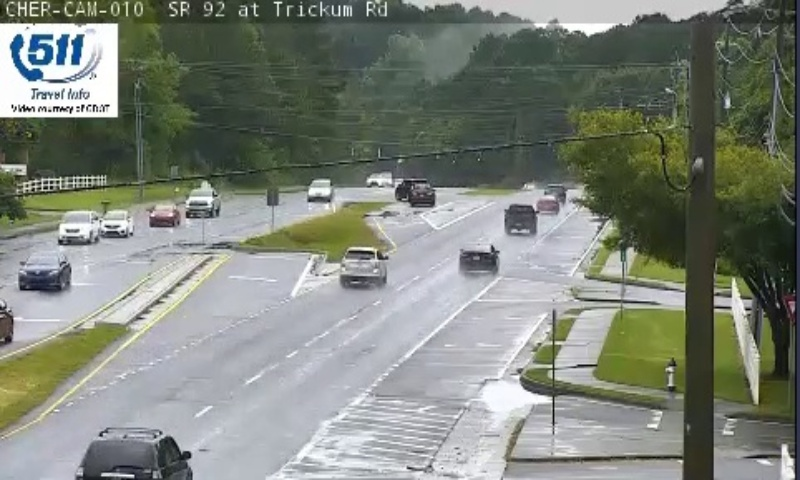car: (74, 427, 194, 480), (340, 247, 386, 283), (459, 243, 498, 270), (504, 204, 538, 234)
